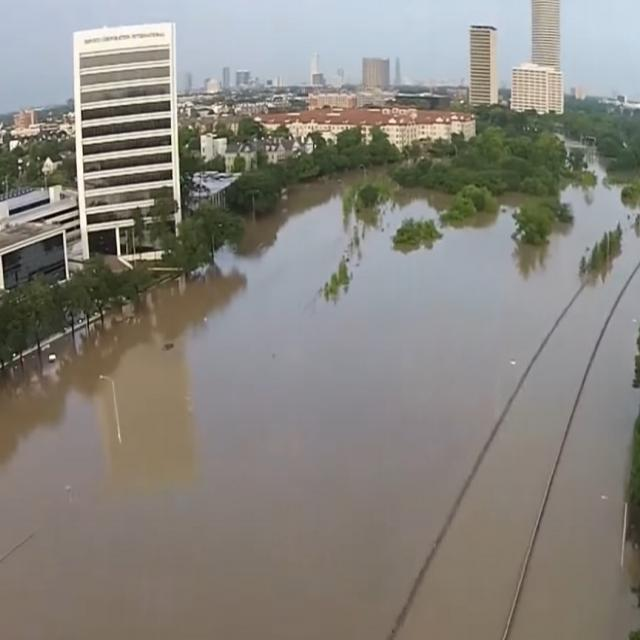flood: (0, 155, 640, 640)
house: (76, 28, 179, 215), (0, 192, 82, 303), (190, 169, 244, 212), (514, 68, 562, 113), (470, 26, 494, 104), (386, 116, 414, 148)
